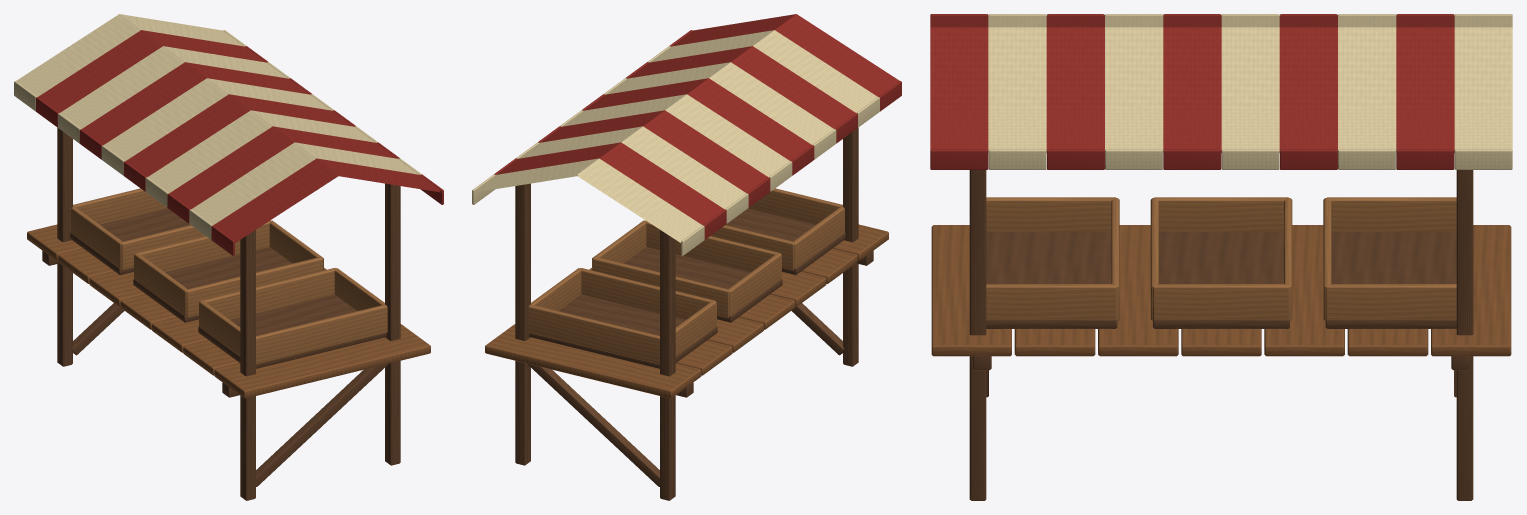
Rendered from marketstall-crafted.glb.
3 views of the same model, side by side, from view 1: azimuth 30°, elevation 25°; view 2: azimuth 150°, elevation 25°; view 3: azimuth 270°, elevation 25° (orthographic). The views are drawn at different scales.
Visible parts, largest first — view 1: marketstall crafted; view 2: marketstall crafted; view 3: marketstall crafted.
Part boxes in pixels (<box>): marketstall crafted: <box>14,14,443,500</box>; marketstall crafted: <box>472,14,901,500</box>; marketstall crafted: <box>930,14,1512,500</box>.
Bounding box in the file's own units: 1.56 × 2.25 × 2.8.
1 material, 1 textured.
